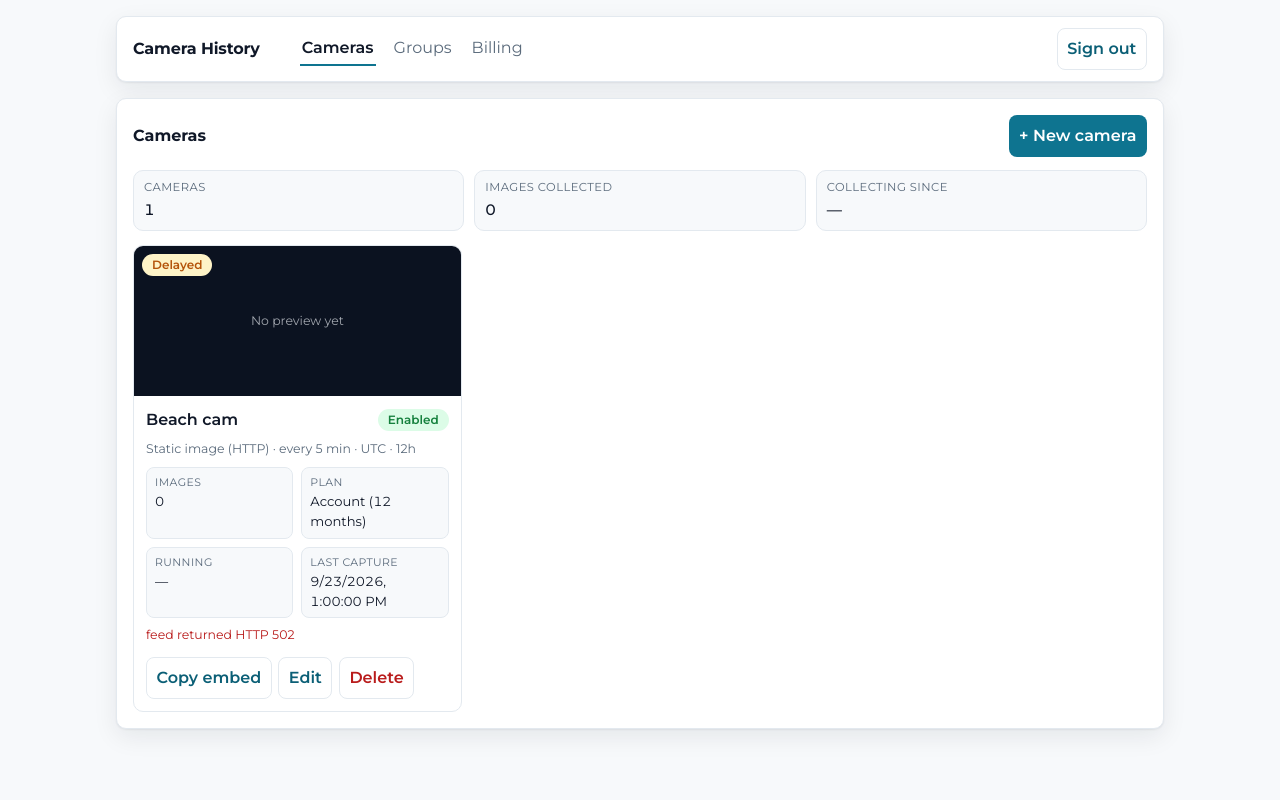
Test: App dashboard › logs out back to the login screen
This screenshot has width=1280, height=800.
Expected: the heading "Beach cam" is shown, [146, 408, 238, 432]
What coordinates should you click on to do the following:
click the button with test id "logout"
I would click on:
 (1102, 49)
Its box is [1057, 28, 1147, 70].
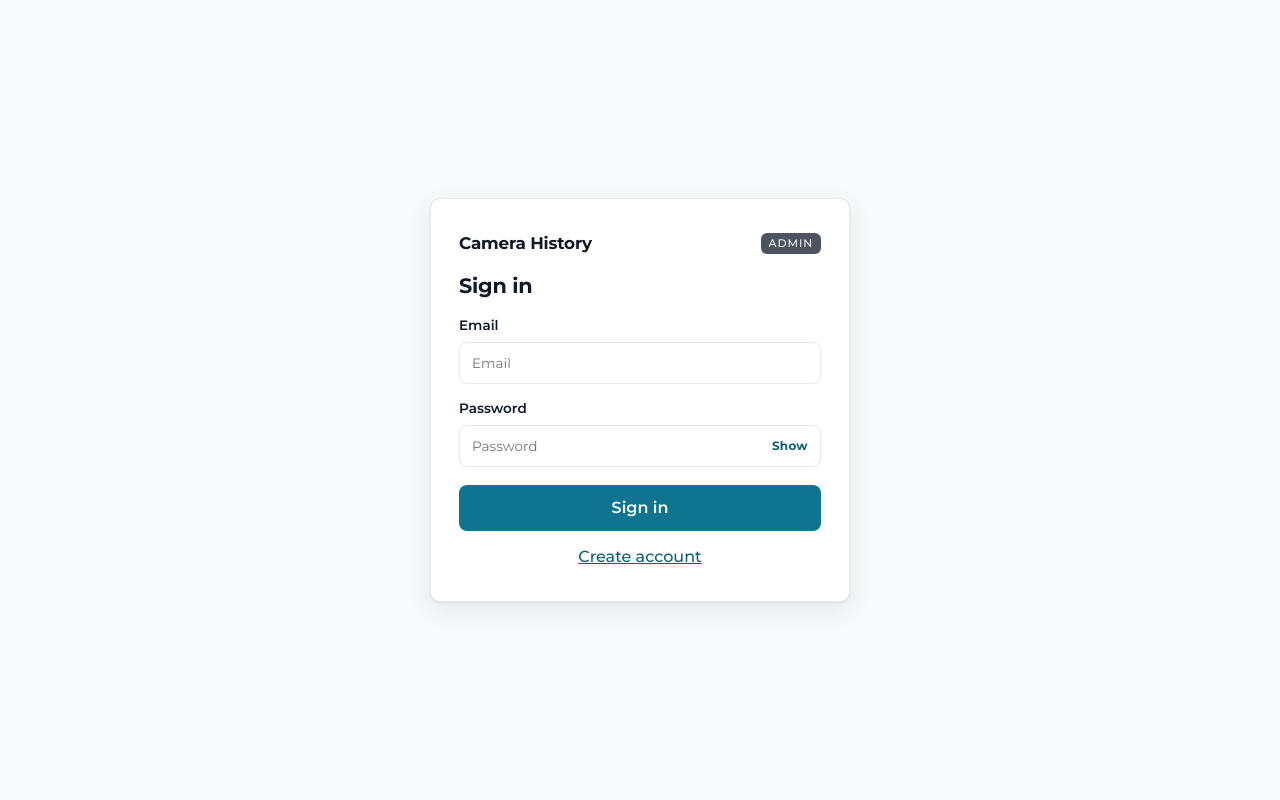
Now the form with test id "login-form" is shown, box [430, 198, 850, 602]
